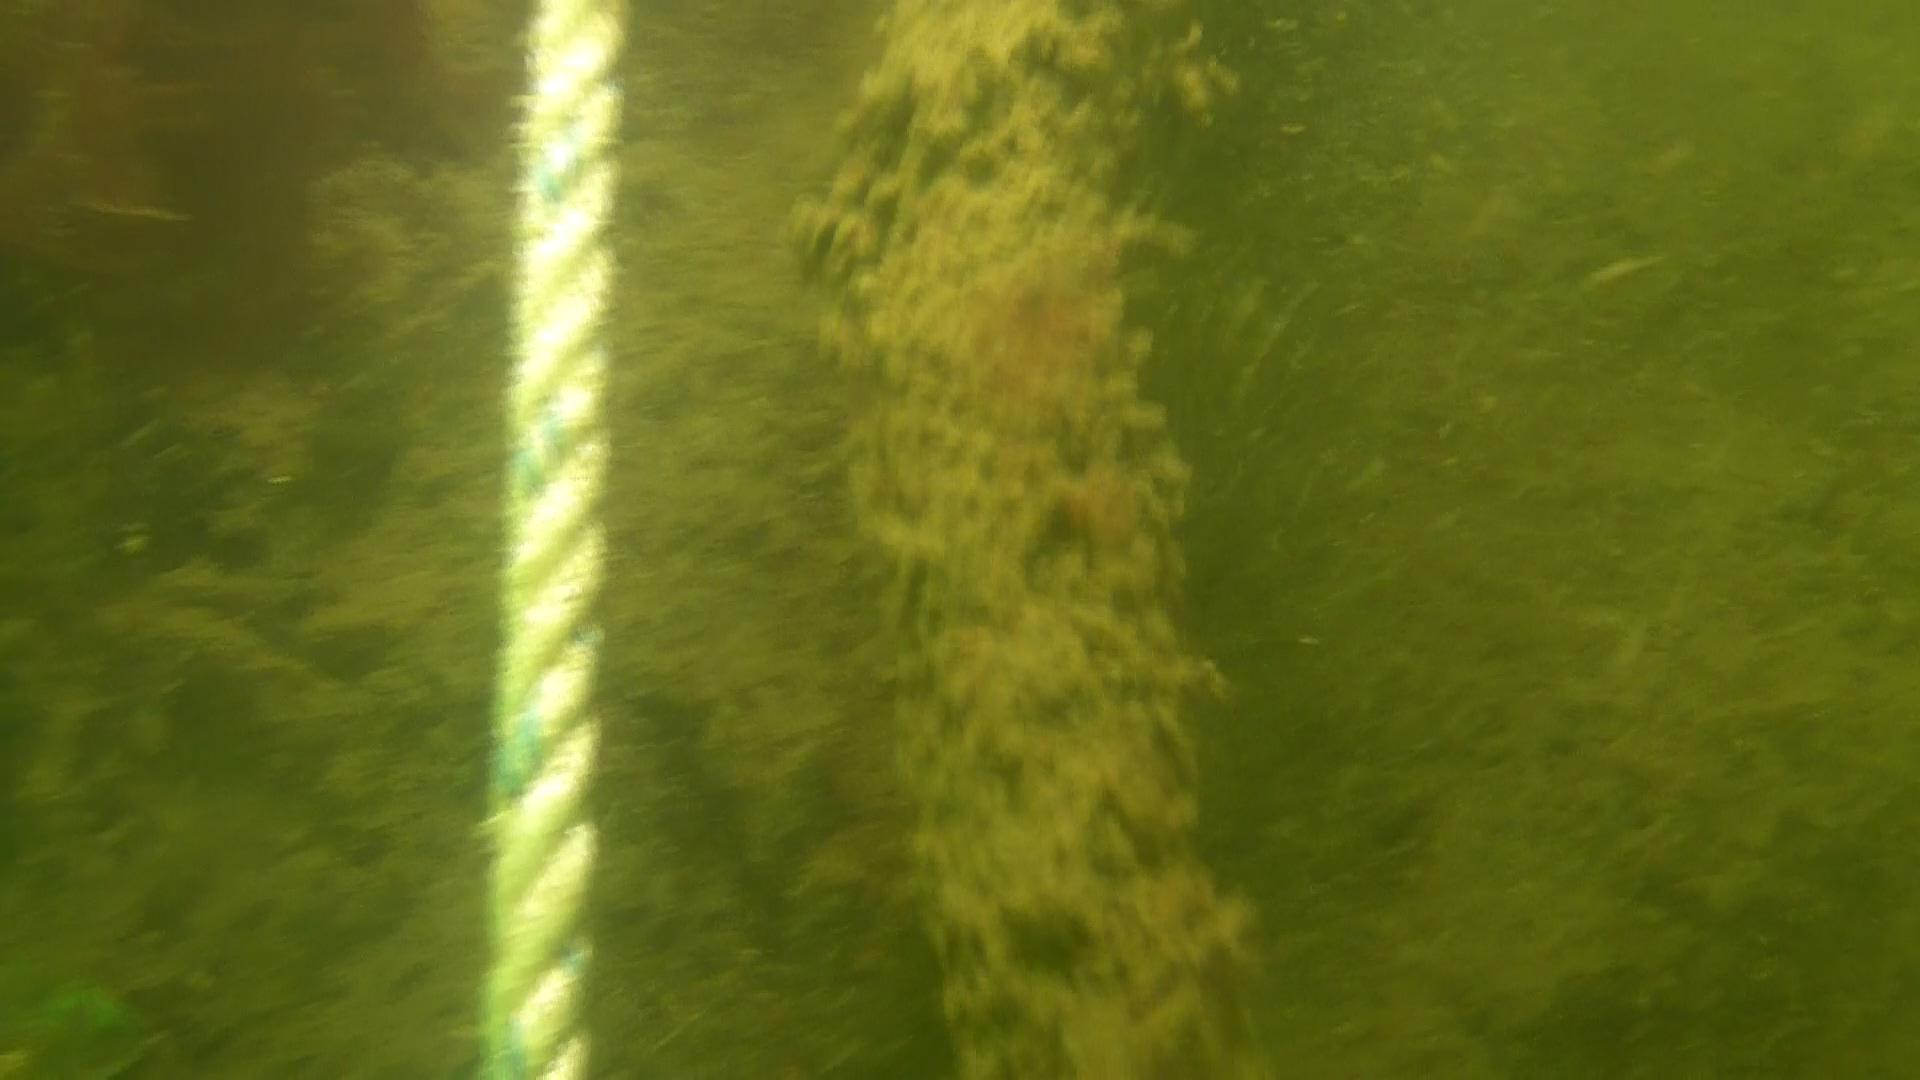rope: (485, 0, 626, 1080)
